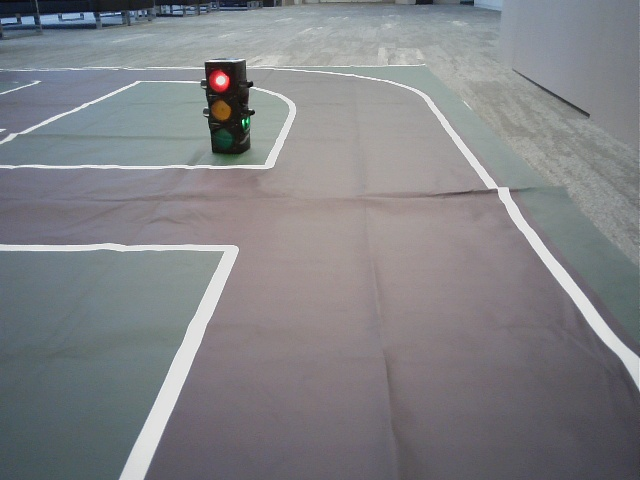red: (205, 65, 236, 150)
